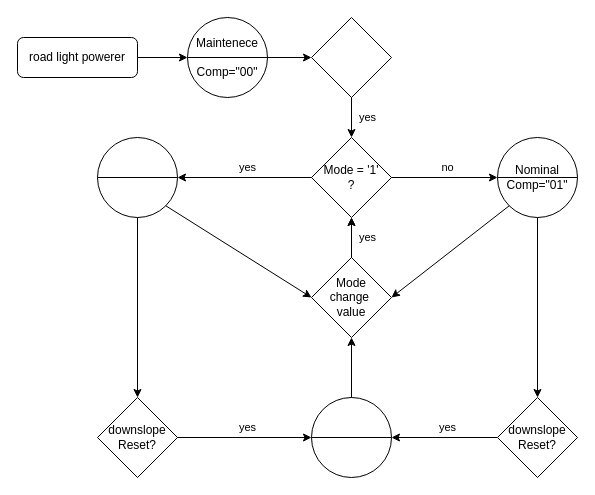
This 595x495 diagram has some shape labels left out. Each missing label, with the box of its shape:
Maintenence Comp="11": (310, 396, 392, 478)
Mode gain value: (310, 16, 392, 98)
Standby Comp="10": (96, 136, 178, 218)
